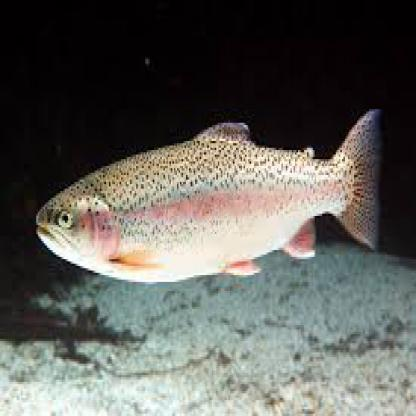fish: (34, 104, 379, 284)
